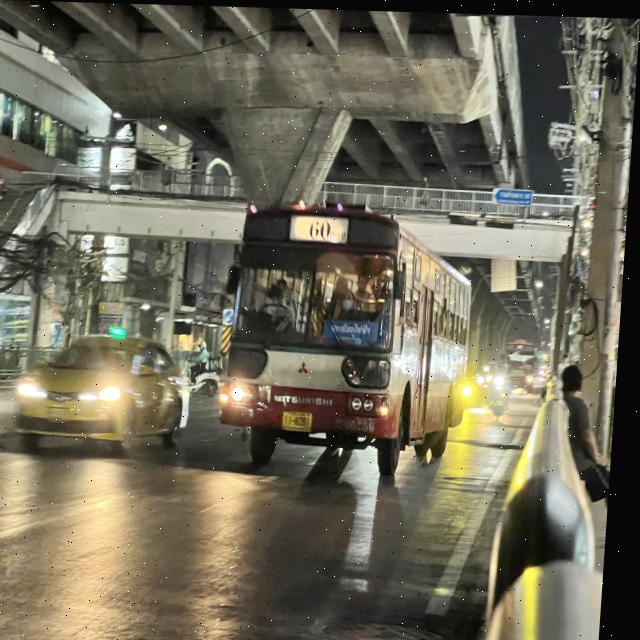BMTA-bus: (219, 201, 481, 480)
Bus-Line-Number: (292, 213, 352, 243)
Destination-Sign-Normal: (325, 317, 384, 346)
